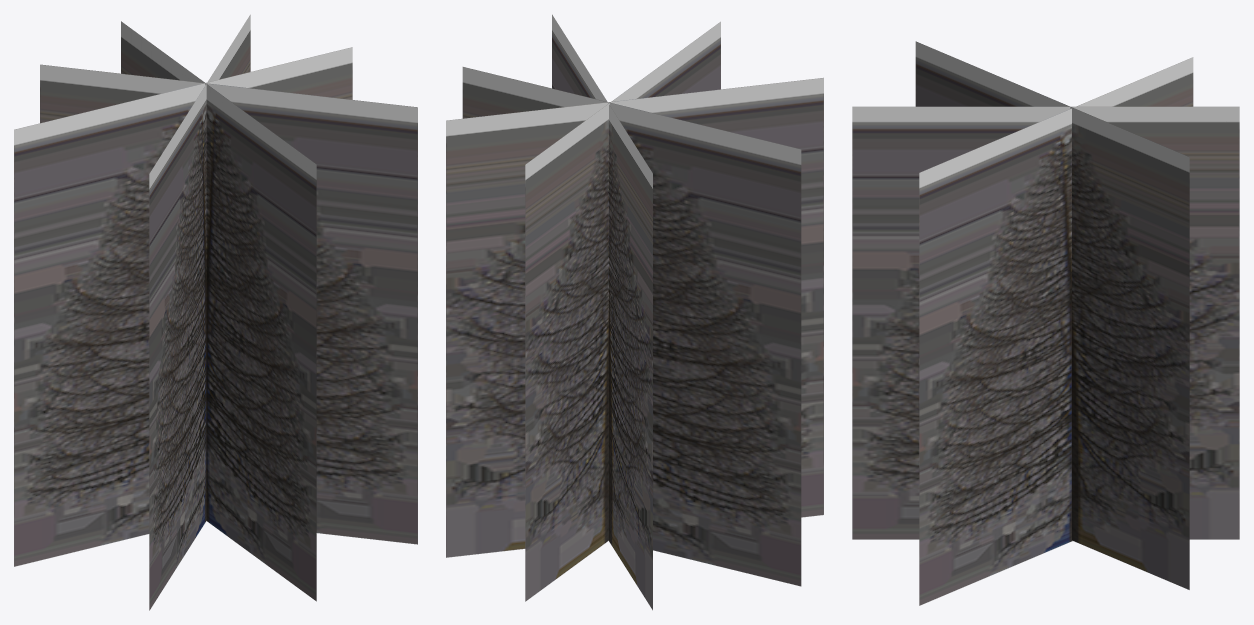
File: tree_dead2.fbx
3 renders of one model, left to right at view 1: azimuth 30°, elevation 25°; view 2: azimuth 150°, elevation 25°; view 3: azimuth 270°, elevation 25°, orthographic.
Visible parts, largest first — view 1: tree_dead2; view 2: tree_dead2; view 3: tree_dead2.
Part boxes in pixels (x1,y1,x2,y2): tree_dead2: (14, 14, 417, 610); tree_dead2: (446, 14, 823, 610); tree_dead2: (852, 41, 1239, 605).
Size of the model in its own units: 1080 by 1334 by 1080.
Materials: 1 (1 with a texture image).
